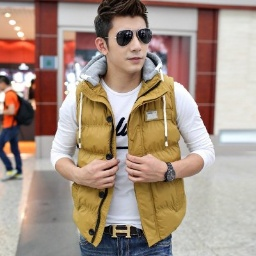face: (92, 1, 153, 75)
